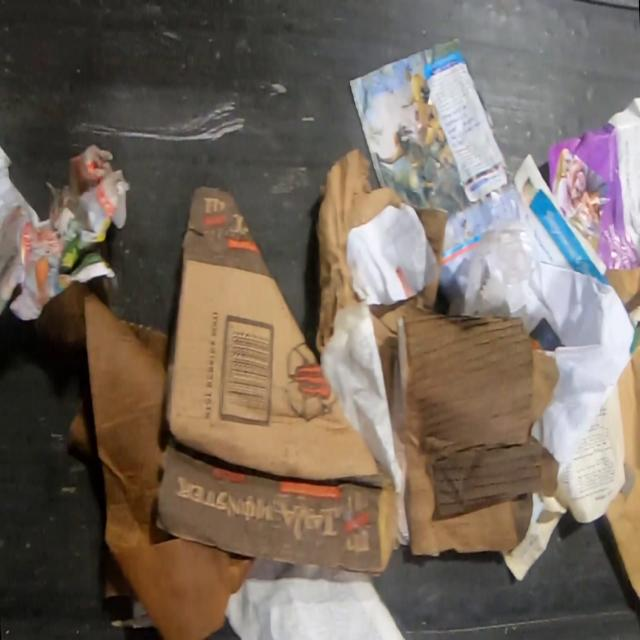cardboard: (155, 189, 392, 571), (32, 281, 255, 640), (392, 312, 560, 557), (314, 144, 448, 425), (602, 342, 640, 608), (604, 266, 640, 314)
soft_plastic: (462, 220, 543, 334)
